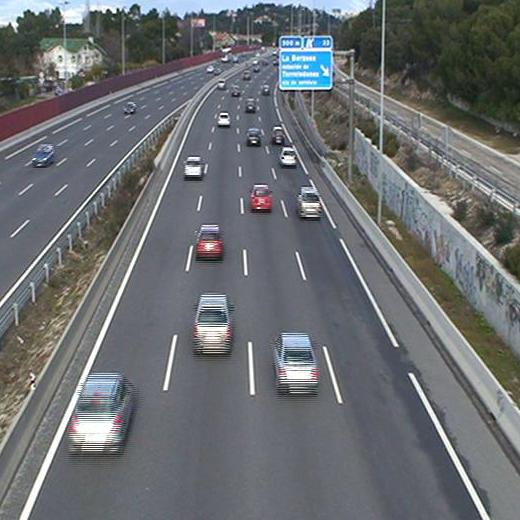car: (60, 367, 137, 456), (266, 327, 327, 395), (192, 293, 234, 356), (189, 221, 230, 266), (296, 185, 323, 217), (249, 182, 273, 211), (181, 154, 206, 176), (243, 126, 264, 148), (279, 145, 300, 166), (268, 122, 287, 145), (216, 111, 234, 128), (244, 97, 259, 113)
